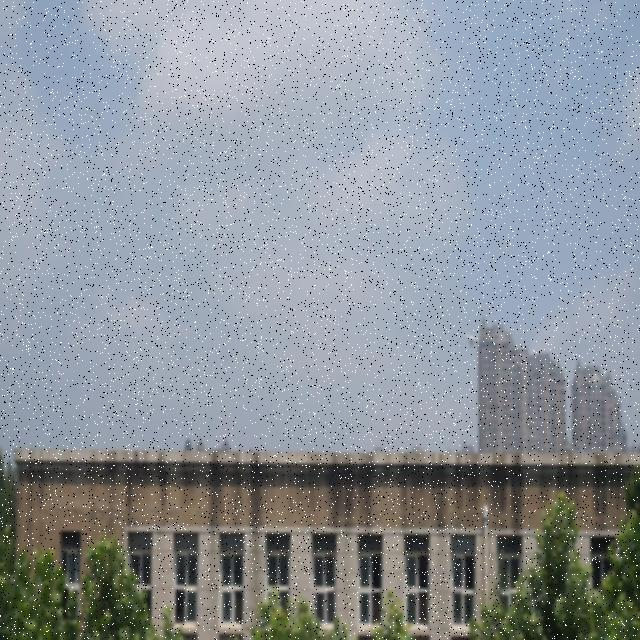UAV: (464, 334, 480, 347)
